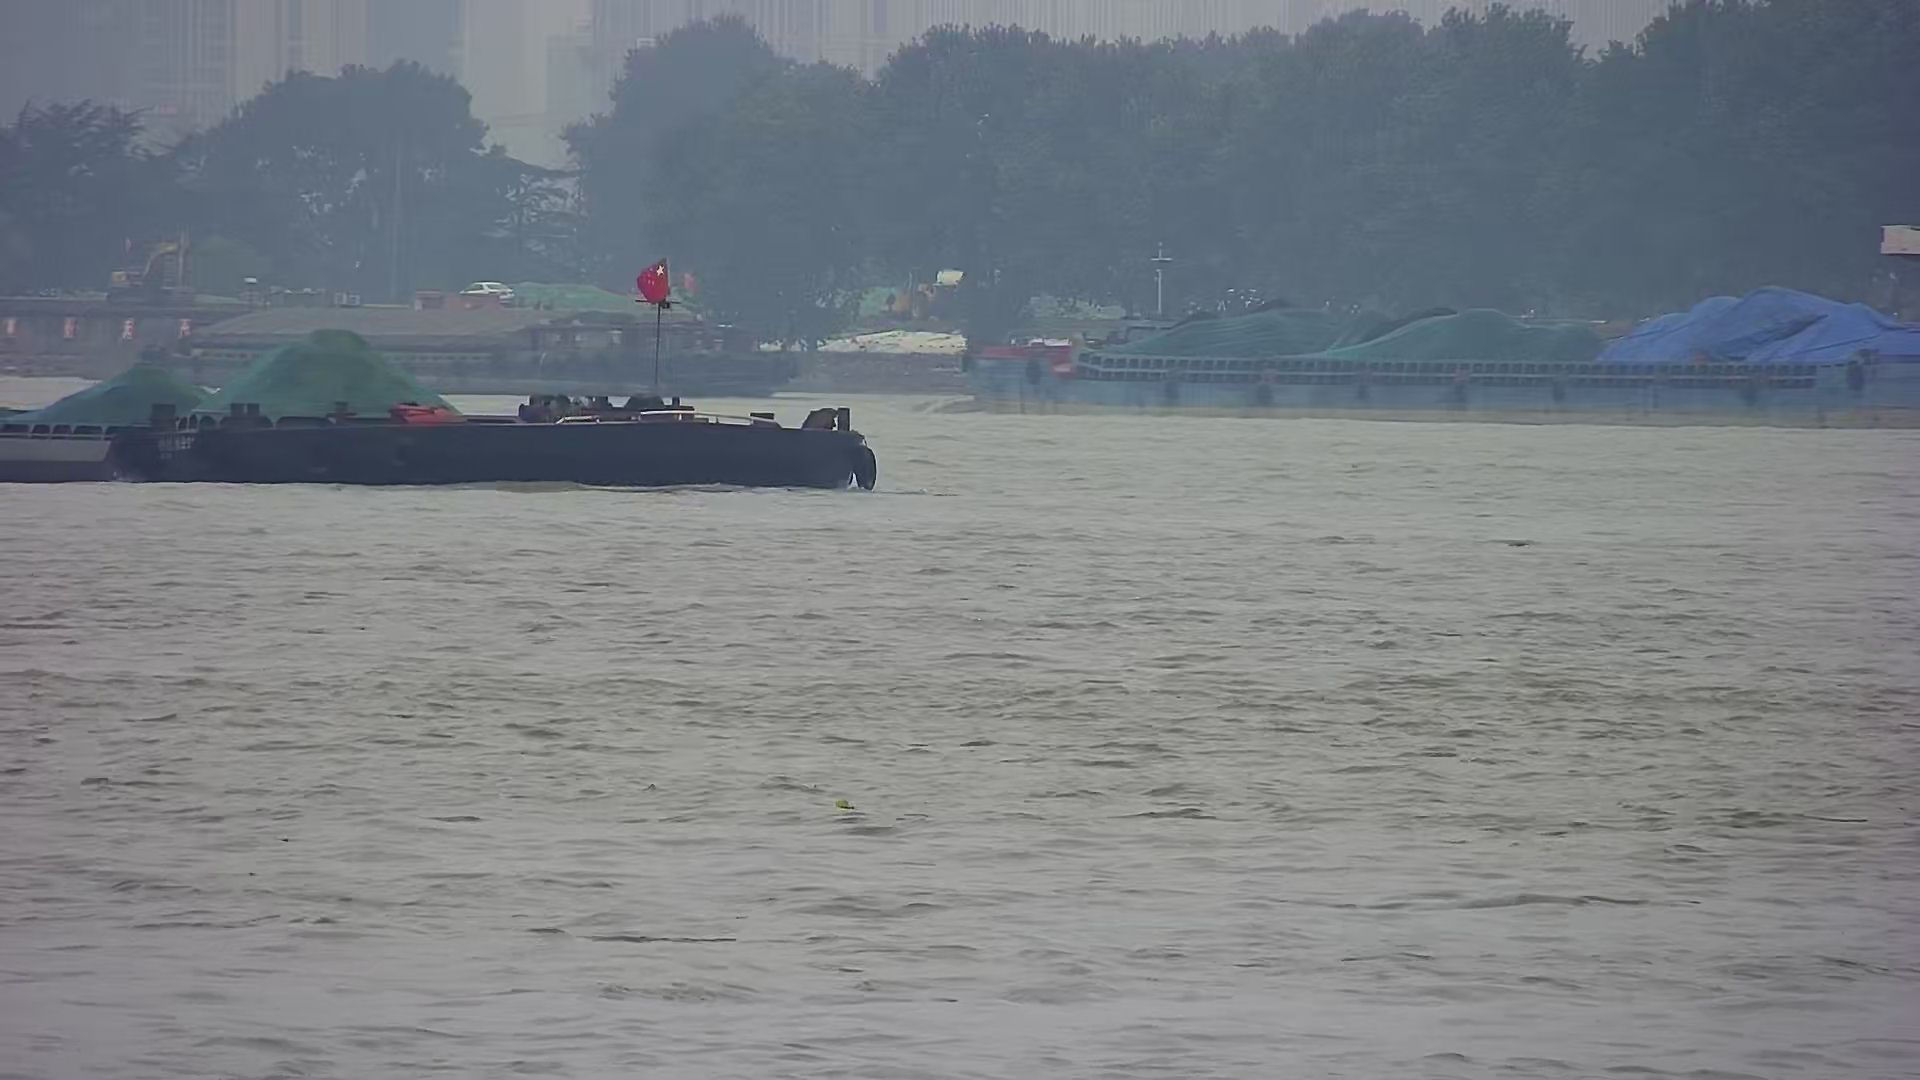ship: (1, 323, 894, 500), (960, 305, 1916, 429), (149, 265, 800, 394)
